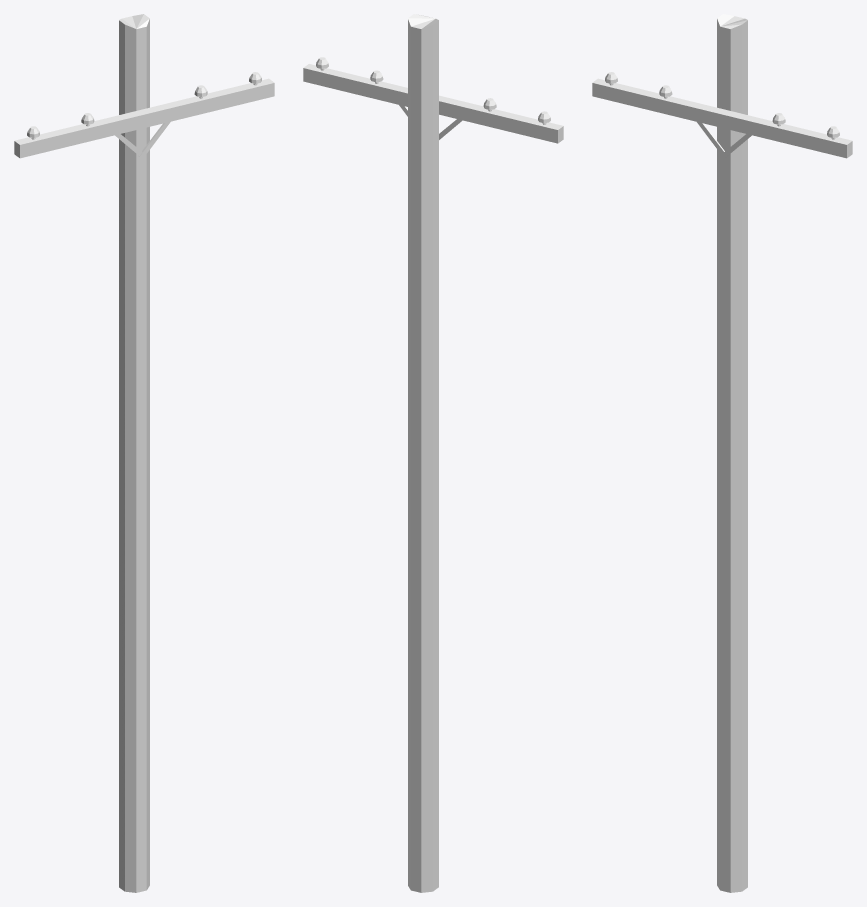
Rendered from Bld_Power_Pole_01.glb.
3 views of the same model, side by side, from view 1: azimuth 30°, elevation 25°; view 2: azimuth 150°, elevation 25°; view 3: azimuth 330°, elevation 25° (orthographic).
Visible parts, largest first — view 1: Bld_Power Pole_01; view 2: Bld_Power Pole_01; view 3: Bld_Power Pole_01.
Part boxes in pixels (x1,y1,x2,y2): Bld_Power Pole_01: (14,14,274,892); Bld_Power Pole_01: (303,14,563,892); Bld_Power Pole_01: (592,14,852,892).
Bounding box in the file's own units: 2.15 × 7 × 0.2987.
Materials: 1 (1 with a texture image).
